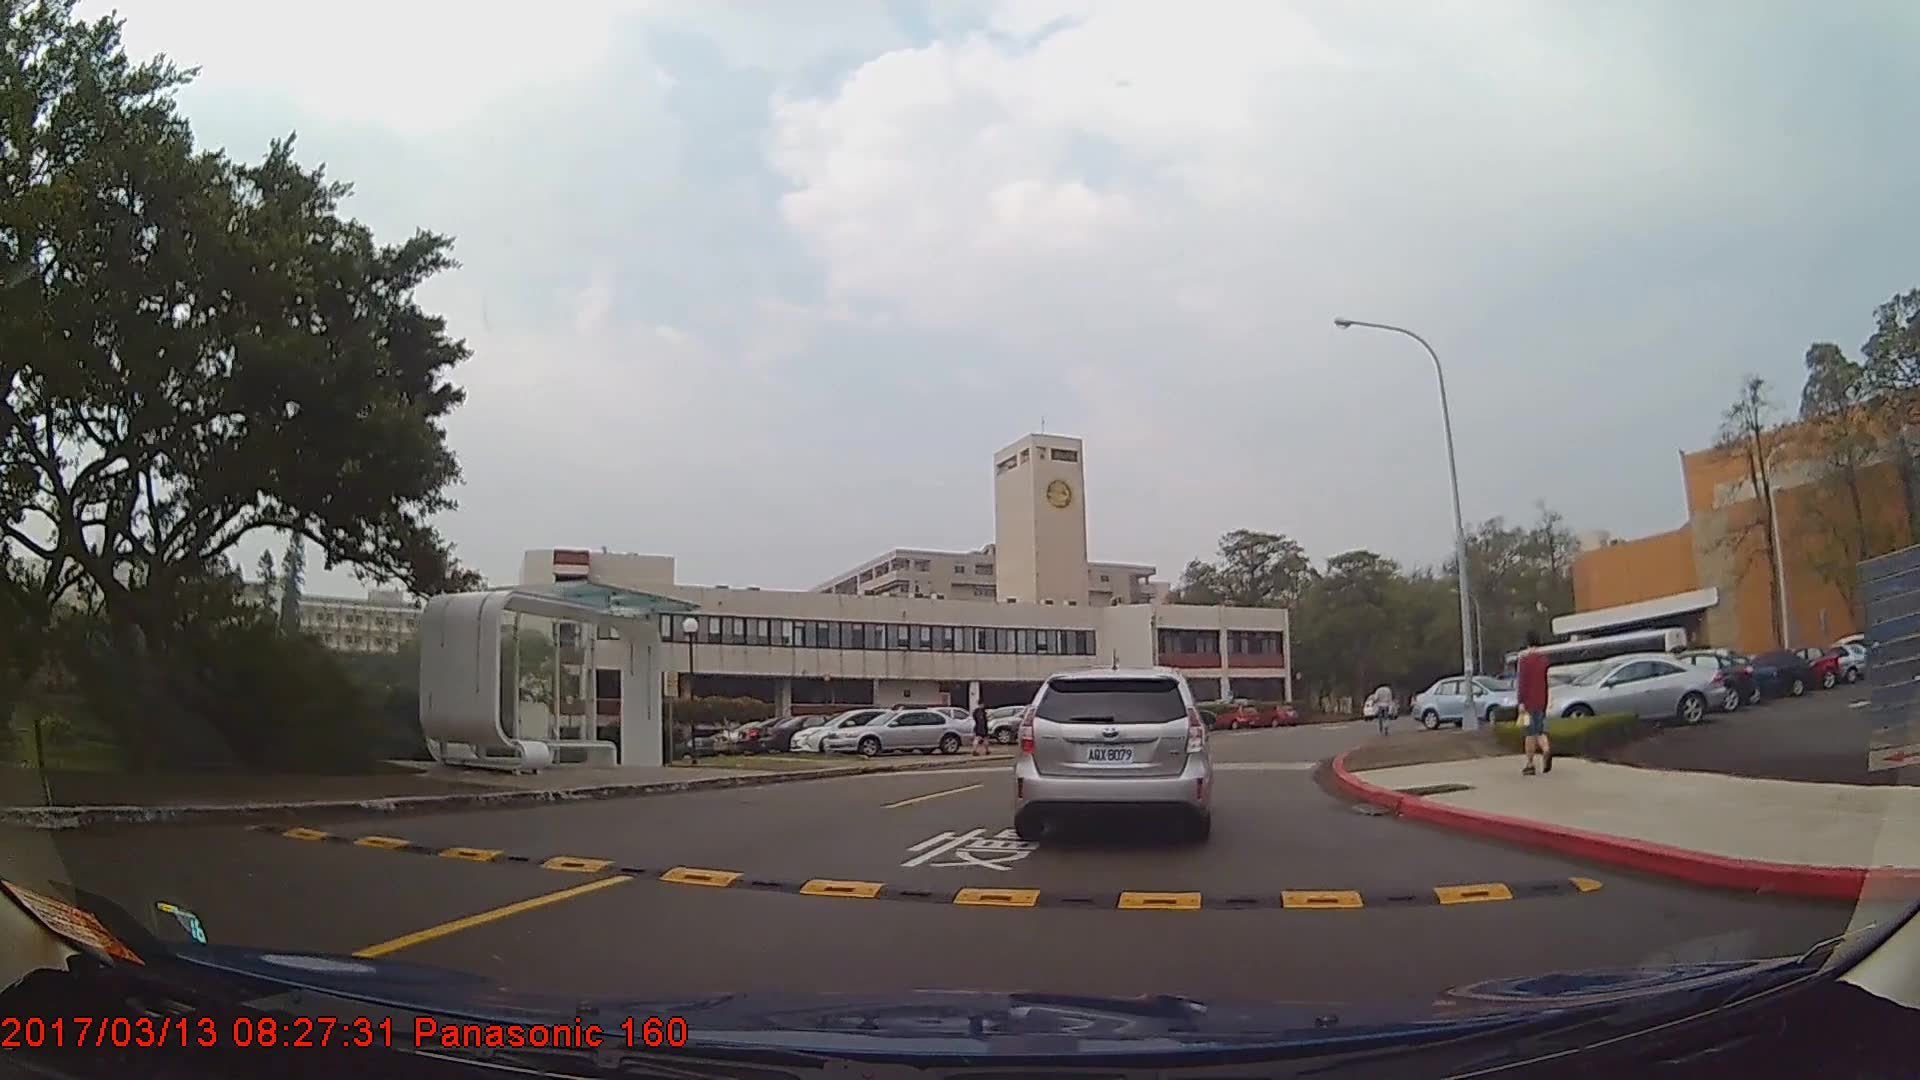pedestrian: (1510, 626, 1556, 771), (1371, 676, 1396, 738), (972, 699, 992, 756)
vehicle: (1017, 665, 1209, 840), (1537, 651, 1723, 726), (822, 706, 976, 755), (784, 703, 924, 749), (1407, 674, 1524, 726), (1669, 649, 1778, 701), (1712, 645, 1815, 696), (758, 711, 858, 750)
